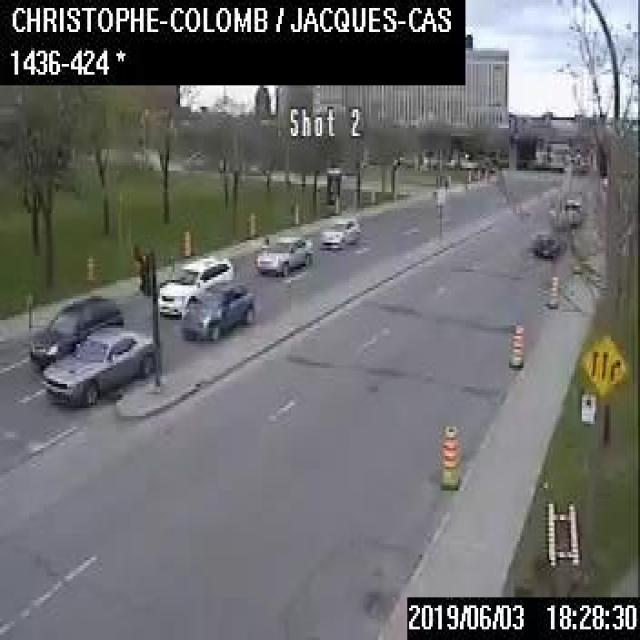construction: (544, 496, 582, 565), (438, 421, 459, 490), (508, 322, 522, 367), (545, 273, 558, 307), (181, 228, 191, 256), (85, 252, 94, 282), (247, 208, 255, 235), (292, 200, 300, 221), (333, 192, 339, 211), (369, 187, 375, 202)
vehicle: (41, 324, 152, 405), (23, 294, 122, 364), (156, 253, 233, 318), (180, 279, 253, 340), (254, 233, 311, 275), (317, 211, 358, 248), (531, 230, 565, 258), (446, 148, 477, 172), (563, 196, 581, 227)
